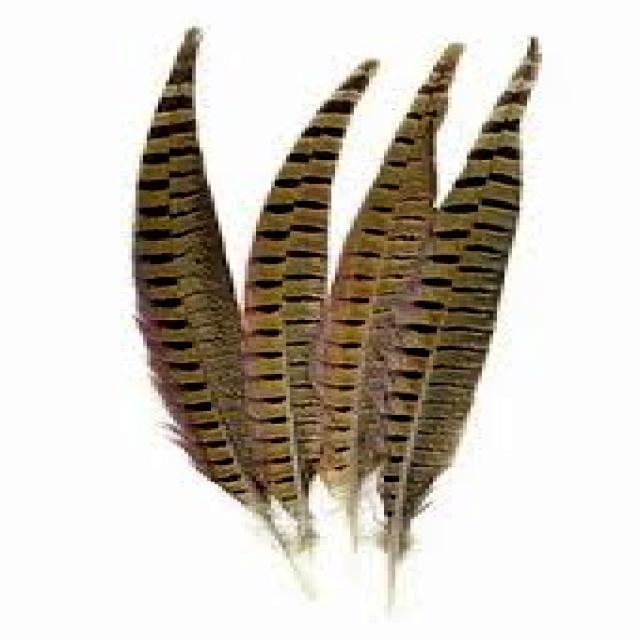Phasianus Colchicus: (131, 26, 542, 541)
